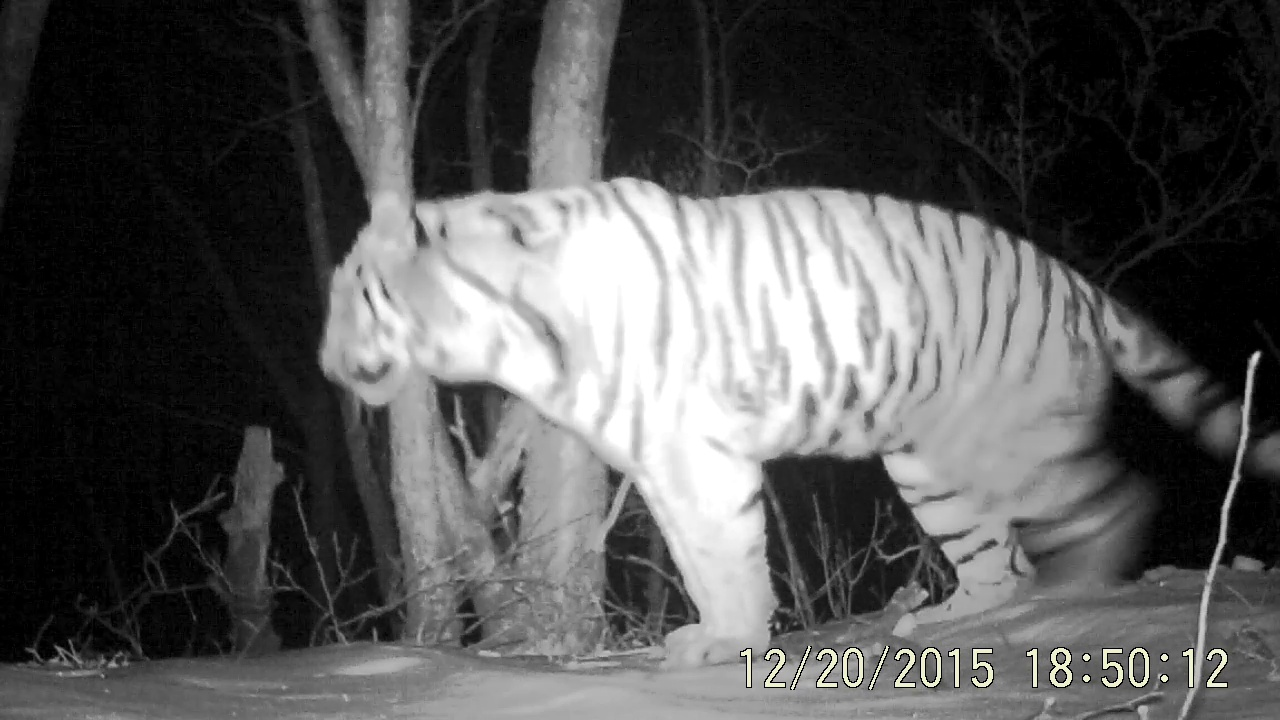Tiger: (287, 141, 1280, 649)
